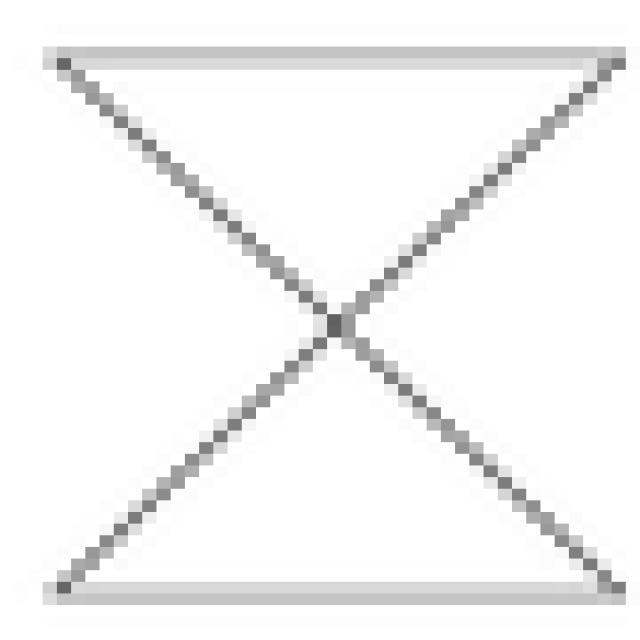Gate valve: (44, 327, 626, 601), (49, 58, 626, 327)
